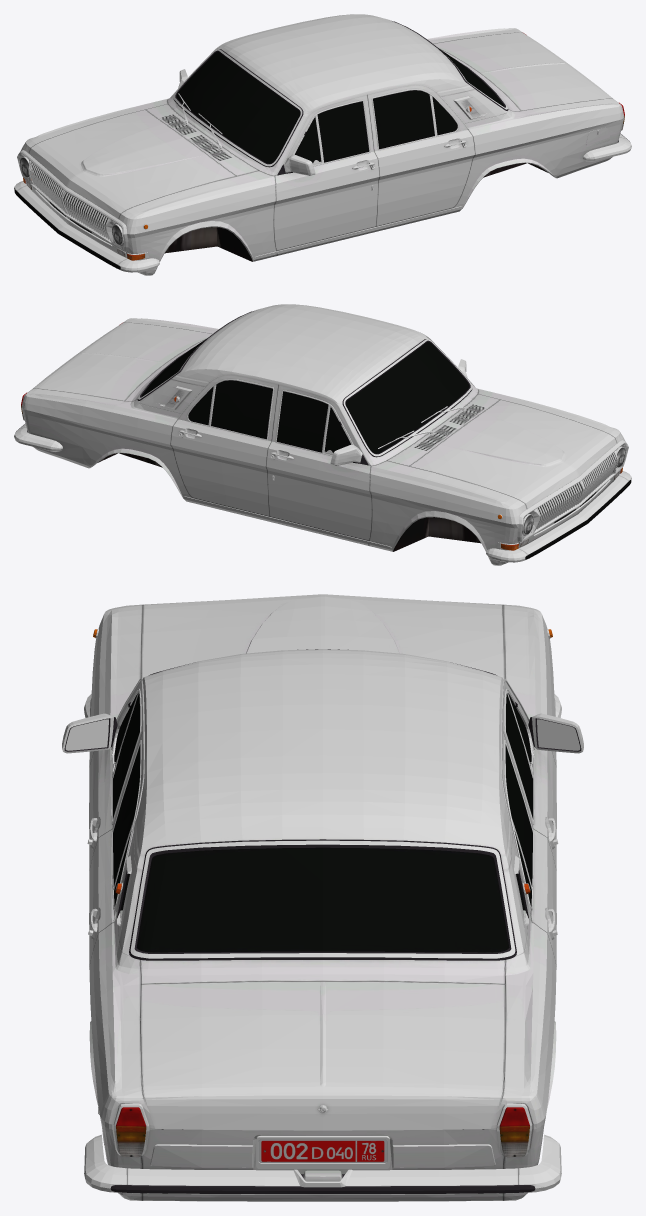
The model's file is GH8KD3R6HV8Y5VHWXT3CVAF7Z.gltf.
3 views of the same model, one above another, from view 1: azimuth 30°, elevation 25°; view 2: azimuth 150°, elevation 25°; view 3: azimuth 270°, elevation 25° (orthographic). The views are drawn at different scales.
Bounding box in the file's own units: 2.5 × 0.6678 × 1.08.
1 material, 1 textured.
